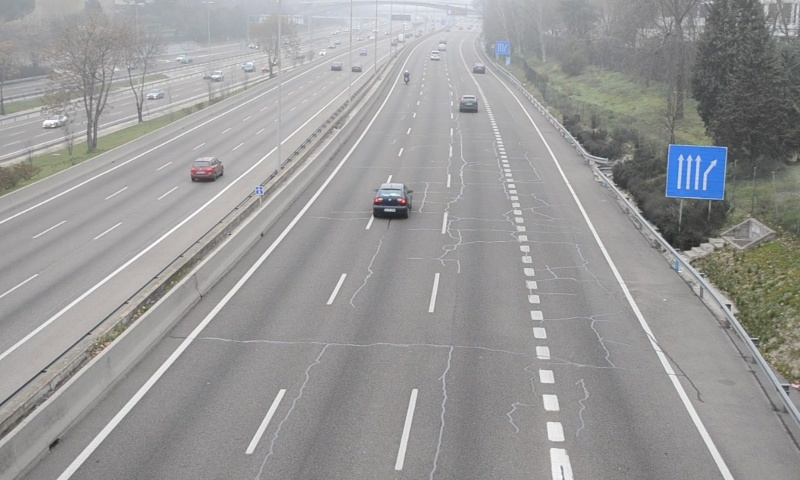car: (373, 183, 412, 218), (459, 94, 478, 114)
motorcycle: (403, 69, 410, 86)
